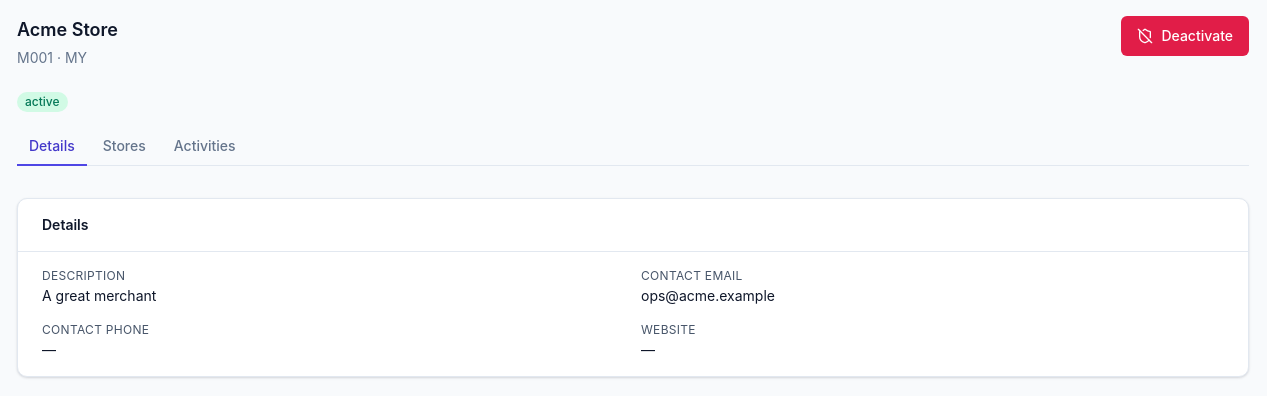
MerchantDetailPage › renders a store-scoped activity link and a null commission rate
The width and height of the screenshot is (1267, 396).
Click the tab "Activities".
click(205, 147)  # box 162,128 -> 248,166
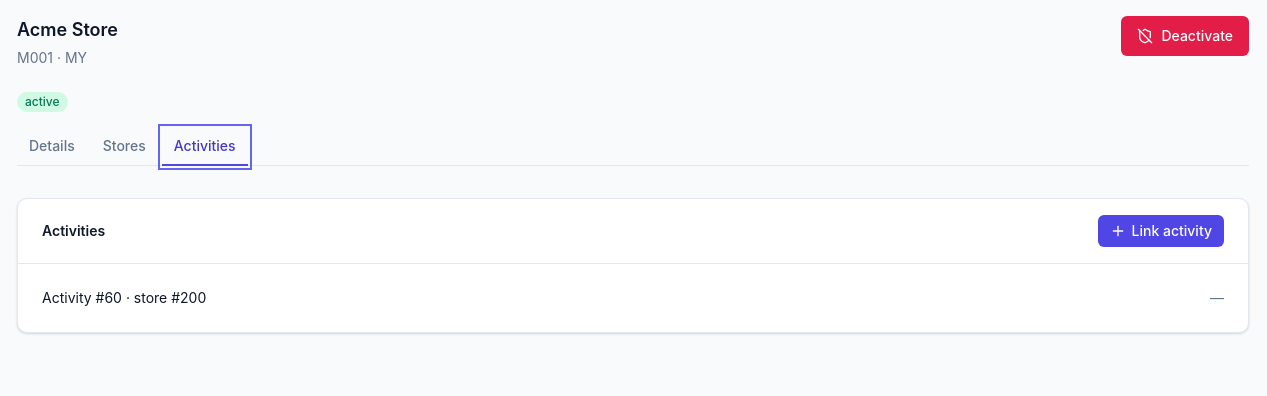
expect the text "Activity #60 · store #200" is shown: met, box 42,288 -> 206,308
